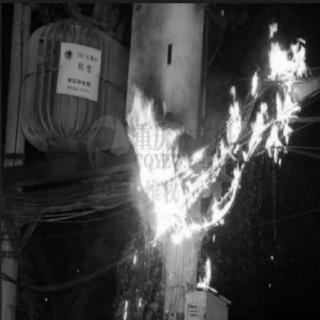Fire: (114, 22, 311, 245), (132, 248, 138, 266)
